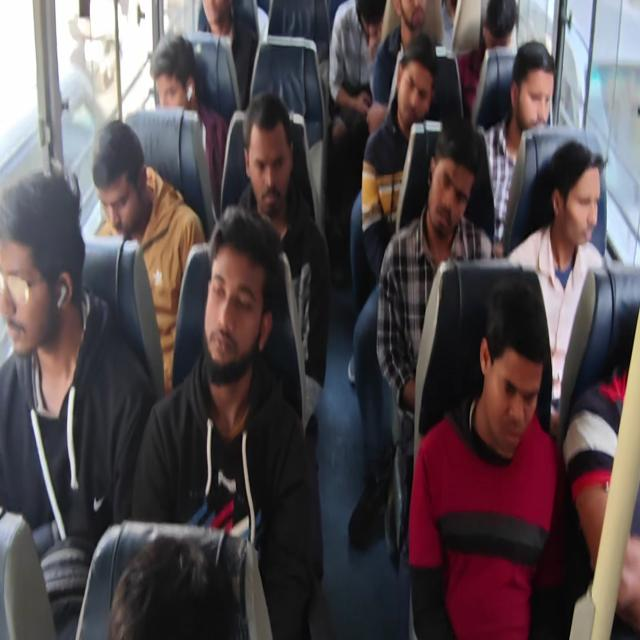person: (202, 218, 276, 376), (0, 196, 75, 344), (466, 308, 542, 444), (248, 114, 296, 222), (378, 53, 454, 116), (99, 138, 146, 228), (561, 177, 614, 256), (421, 164, 480, 234), (470, 0, 527, 70), (518, 58, 564, 137), (146, 53, 199, 109), (356, 0, 395, 49), (393, 0, 427, 46), (189, 0, 232, 30)
